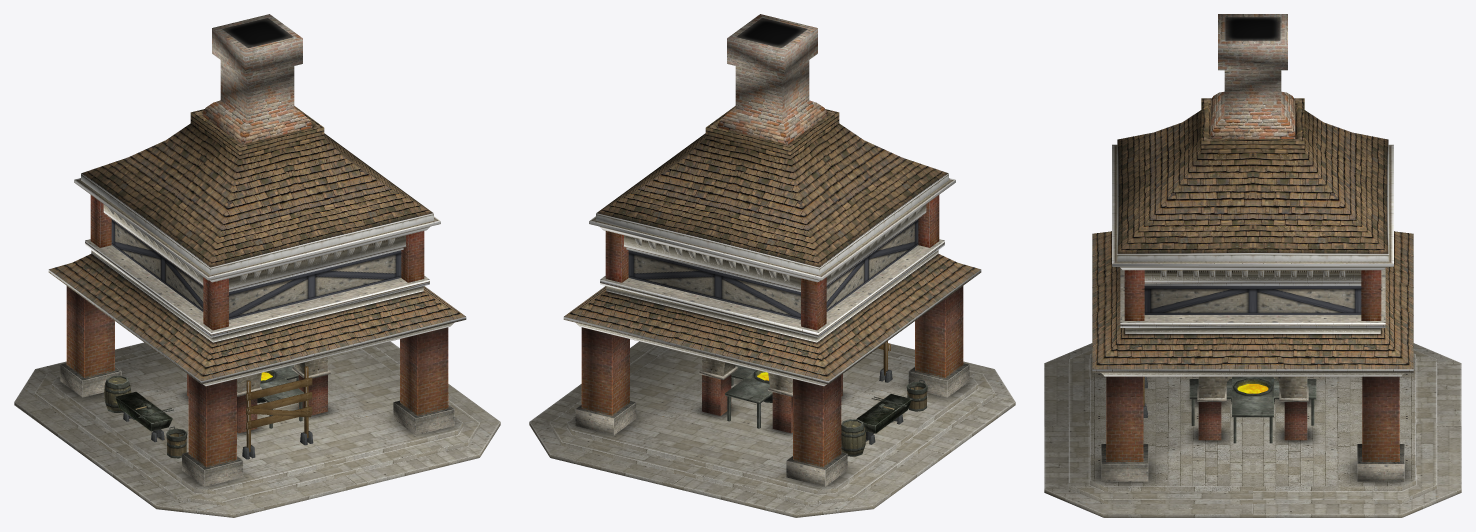
File: gear_shop.fbx
3 views of the same model, side by side, from view 1: azimuth 30°, elevation 25°; view 2: azimuth 150°, elevation 25°; view 3: azimuth 270°, elevation 25° (orthographic). The views are drawn at different scales.
Visible parts, largest first — view 1: polySurface275, polySurface255, polySurface251, polySurface250, pCylinder3, polySurface252; view 2: polySurface275, polySurface250, polySurface251, pCylinder3, polySurface252; view 3: polySurface275, polySurface250.
Part boxes in pixels (bbox=[...]): polySurface275: bbox=[14, 14, 500, 517]; polySurface255: bbox=[242, 366, 313, 459]; polySurface251: bbox=[115, 391, 172, 442]; polySurface250: bbox=[257, 365, 303, 428]; pCylinder3: bbox=[104, 375, 131, 412]; polySurface252: bbox=[166, 426, 187, 458]; polySurface275: bbox=[529, 14, 1015, 517]; polySurface250: bbox=[725, 365, 772, 428]; polySurface251: bbox=[856, 394, 911, 444]; pCylinder3: bbox=[841, 419, 866, 456]; polySurface252: bbox=[906, 379, 927, 411]; polySurface275: bbox=[1044, 14, 1461, 517]; polySurface250: bbox=[1189, 376, 1316, 443].
Bounding box in the file's own units: 30.78 × 32.65 × 30.78.
